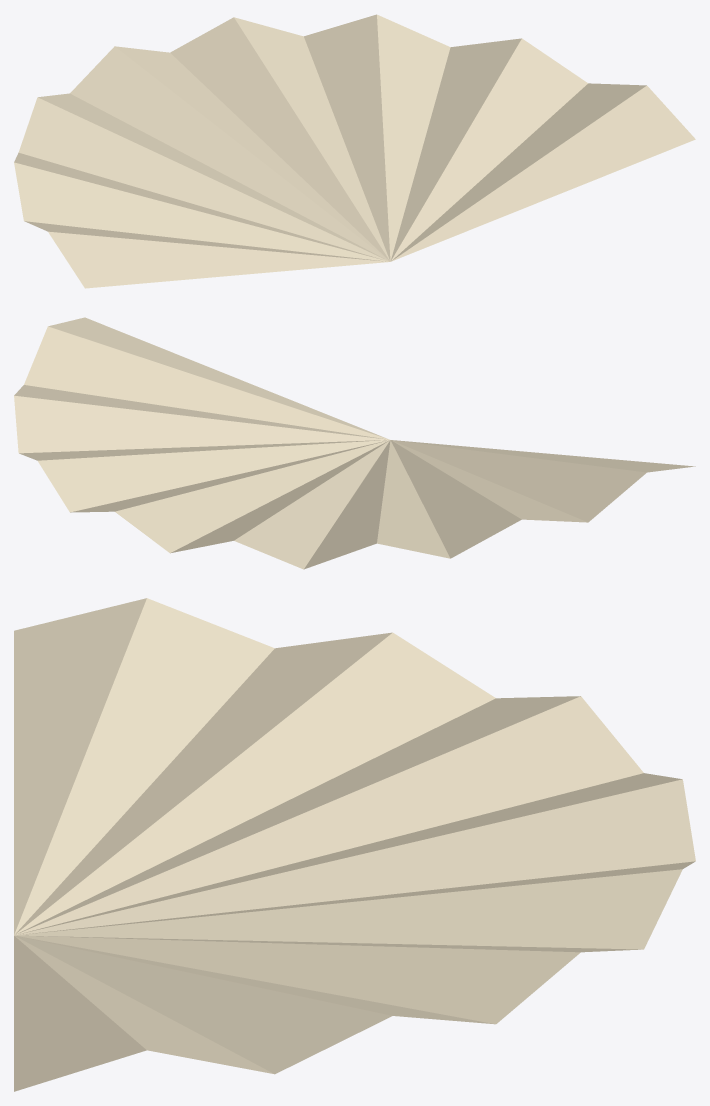
Rendered from Seashell.fbx.
The picture shows the model from 3 angles, top to bottom: view 1: azimuth 30°, elevation 25°; view 2: azimuth 150°, elevation 25°; view 3: azimuth 270°, elevation 25°; orthographic projection. The views are drawn at different scales.
Visible parts, largest first — view 1: Shell_Stone; view 2: Shell_Stone; view 3: Shell_Stone.
Boxes of the visible parts, x1,y1,x2,y2 form: Shell_Stone: (14, 14, 695, 288); Shell_Stone: (14, 317, 695, 569); Shell_Stone: (14, 598, 695, 1091).
Size of the model in its own units: 80 by 9 by 50.
